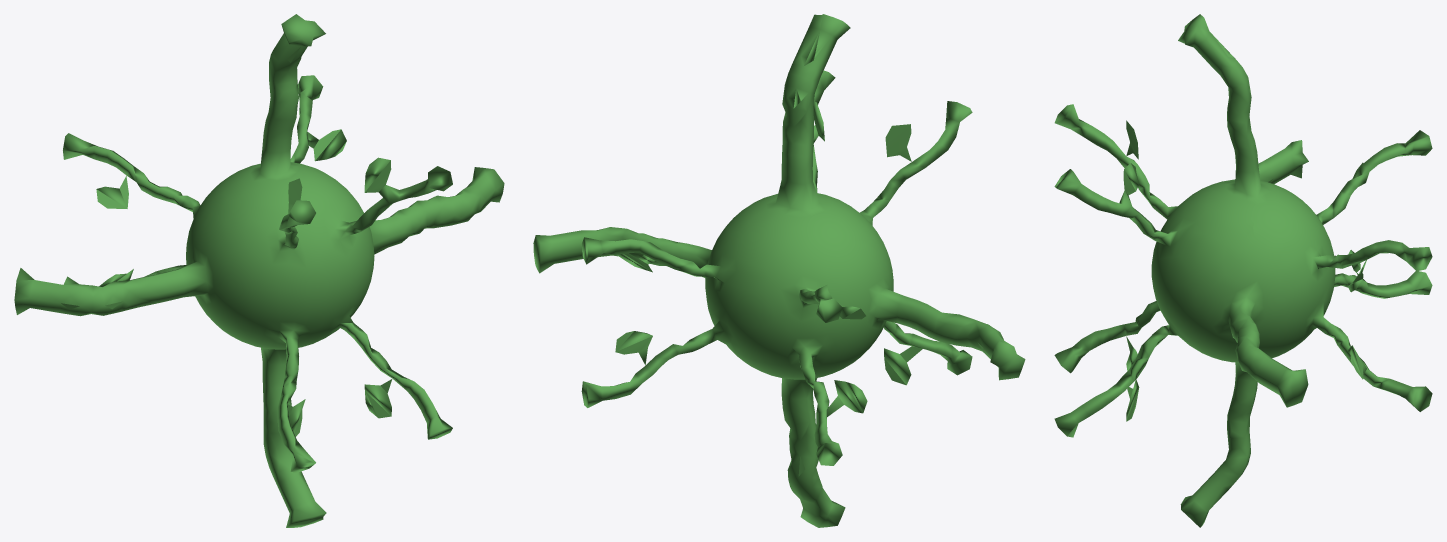
File: organic3.obj
3 renders of one model, left to right at view 1: azimuth 30°, elevation 25°; view 2: azimuth 150°, elevation 25°; view 3: azimuth 270°, elevation 25°, orthographic. The views are drawn at different scales.
Visible parts, largest first — view 1: Icosphere; view 2: Icosphere; view 3: Icosphere.
Boxes of the visible parts, bbox=[...] form: Icosphere: bbox=[14, 14, 504, 527]; Icosphere: bbox=[533, 14, 1025, 527]; Icosphere: bbox=[1054, 14, 1432, 527].
Size of the model in its own units: 1.74 by 1.75 by 1.19.
